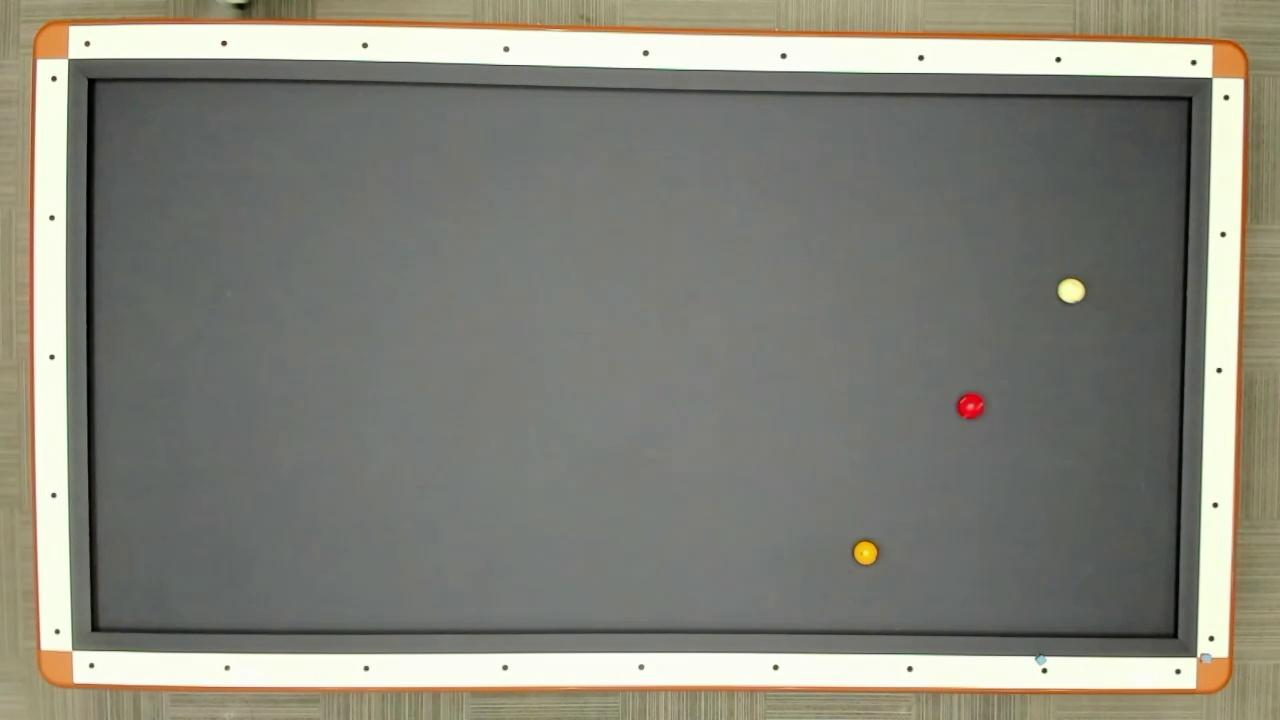Red: (956, 390, 986, 420)
White: (1056, 274, 1086, 306)
Yellow: (851, 539, 879, 567)
